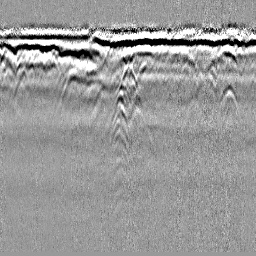cavity: (119, 62, 137, 84)
